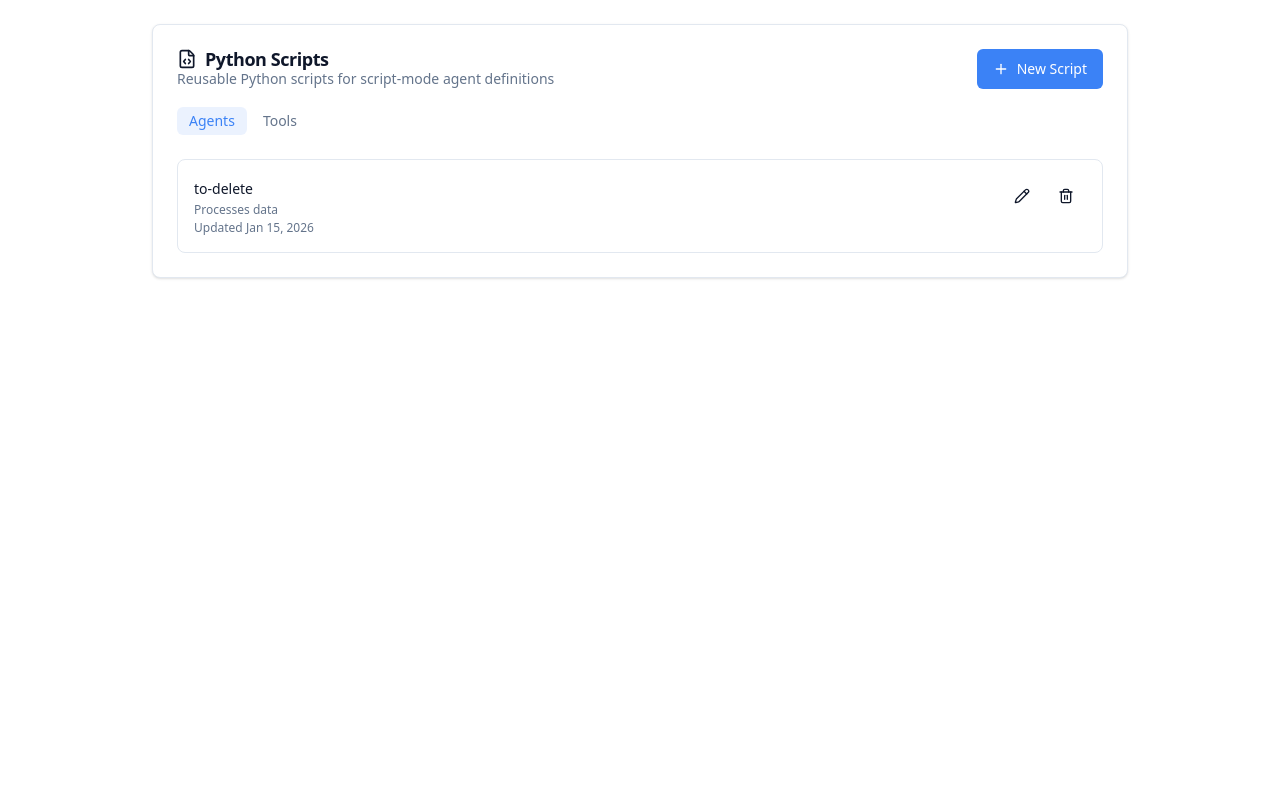
PythonScriptsPage — delete flow › opens delete confirm dialog with script name in message
Click the 5th button at {"x": 1066, "y": 196}, box [1046,176,1086,216]
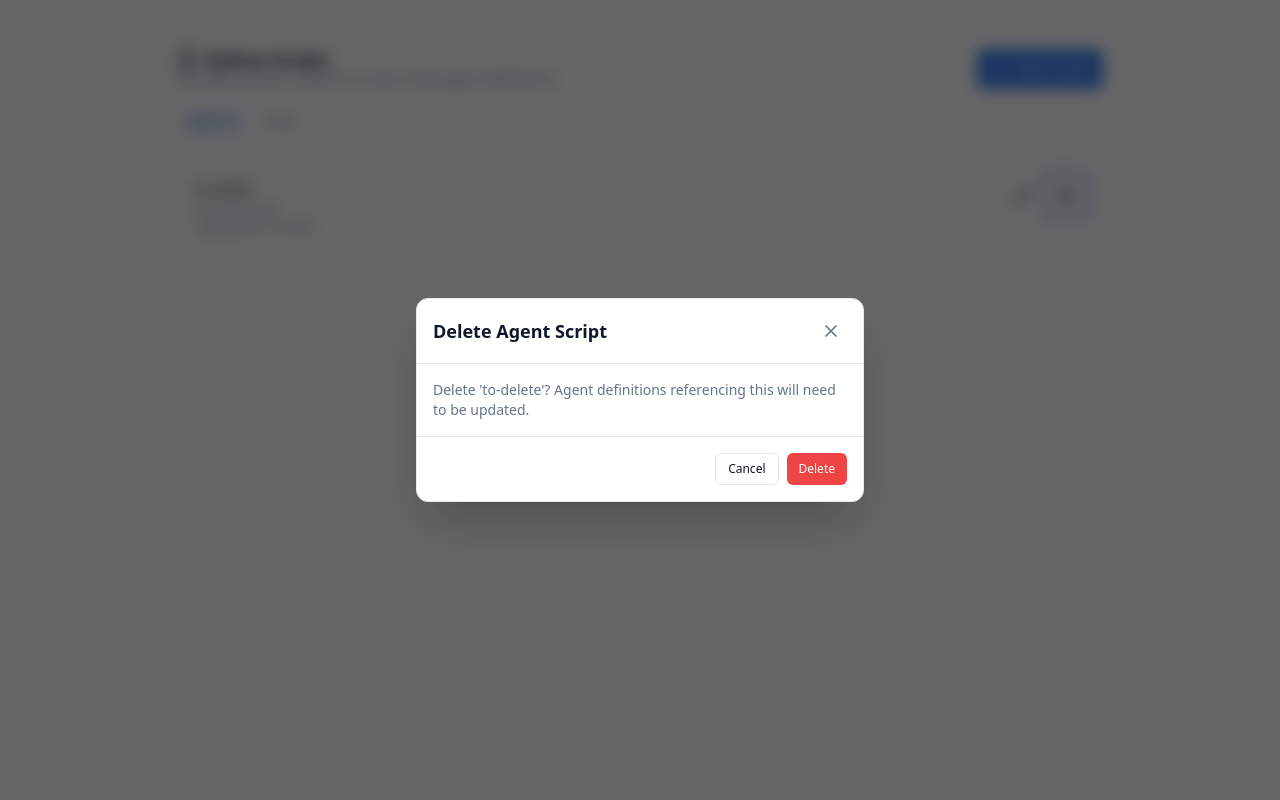
Expected: the heading "Delete Agent Script" is shown, [433,319,607,343]
Expected: the text "Agent definitions referencing" is shown, [433,380,836,419]
